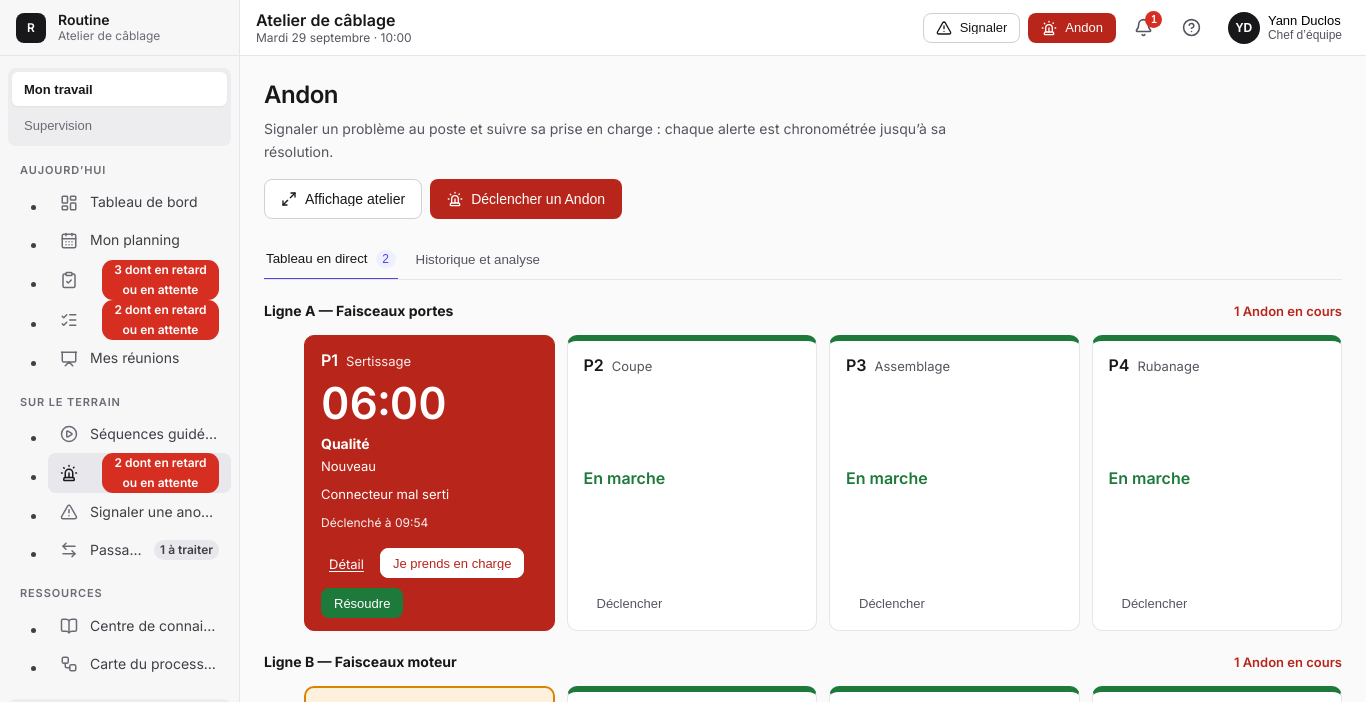
it: andon › prise en charge puis résolution avec cause obligatoire
Later steps or results of the test are not shown.
Click the button "Je prends en charge" at [452, 563], box [380,548,524,578]
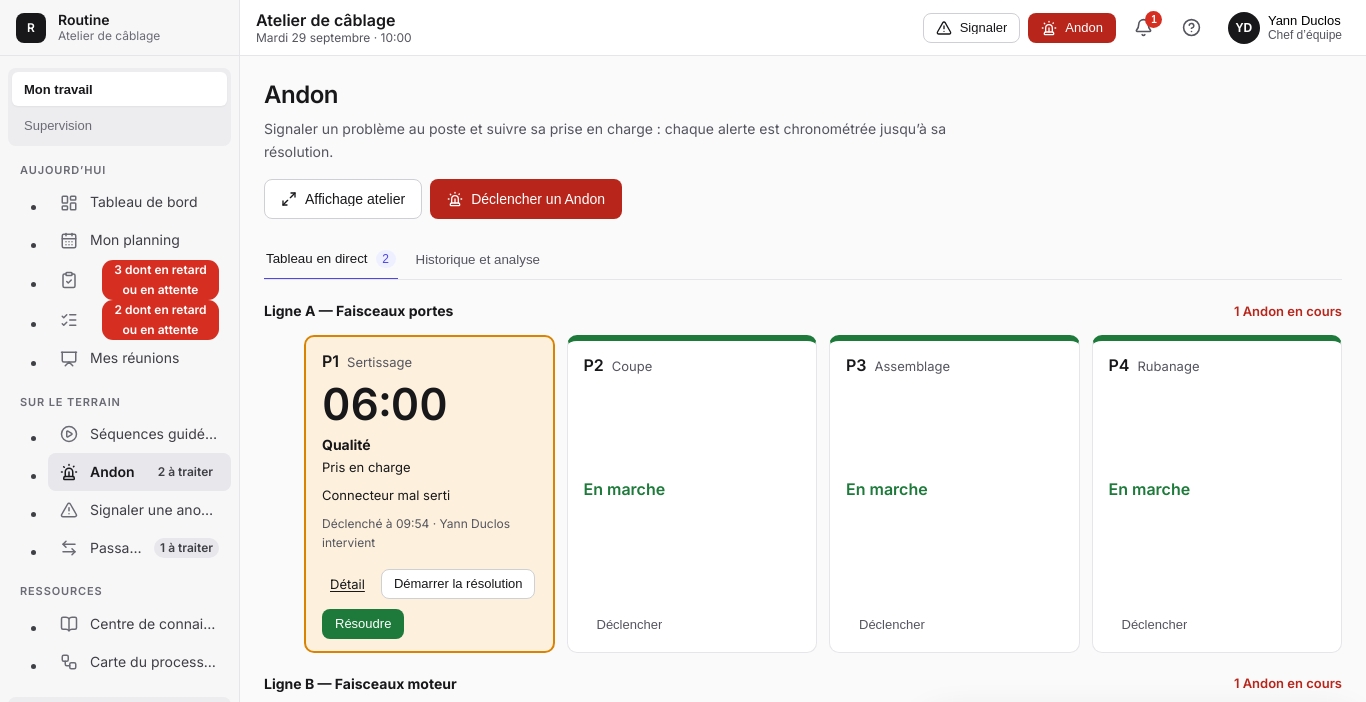
Click the button "Résoudre" at [363, 624], box [322,608,404,638]
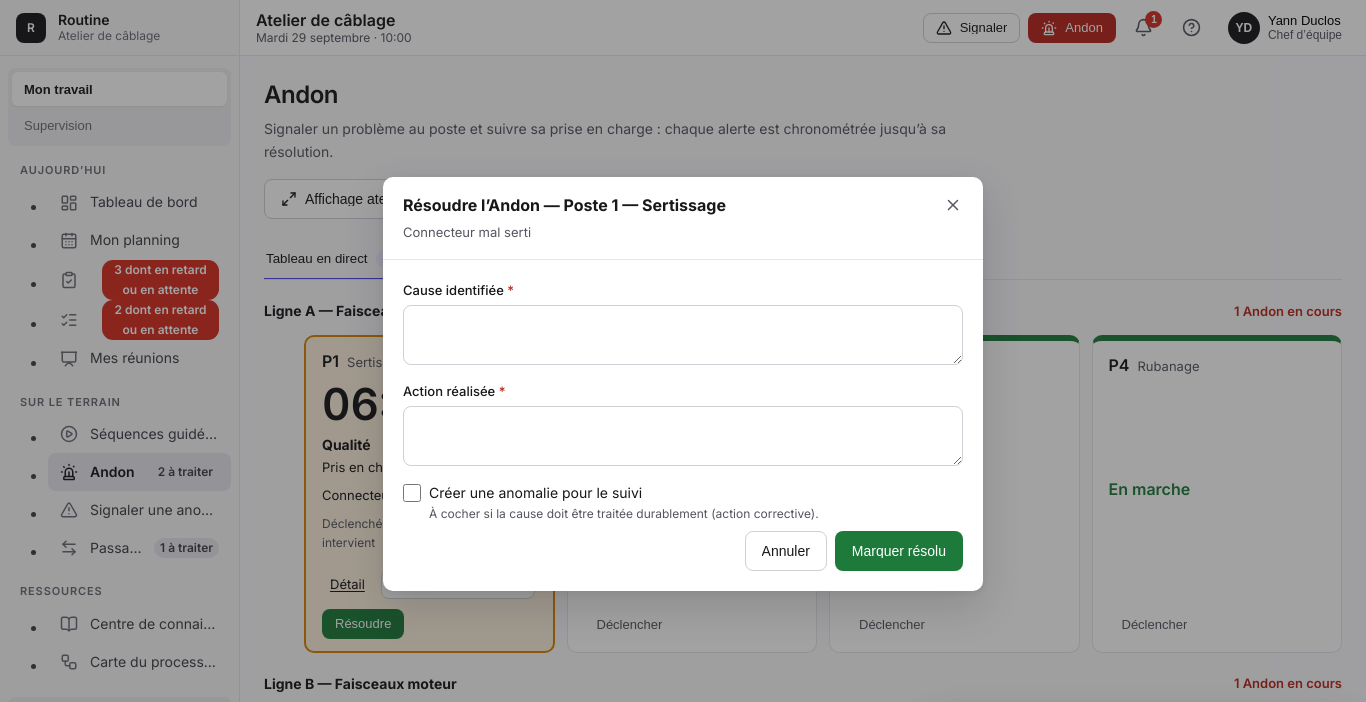
Click the button "Marquer résolu" at [899, 551], box [835,531,963,571]
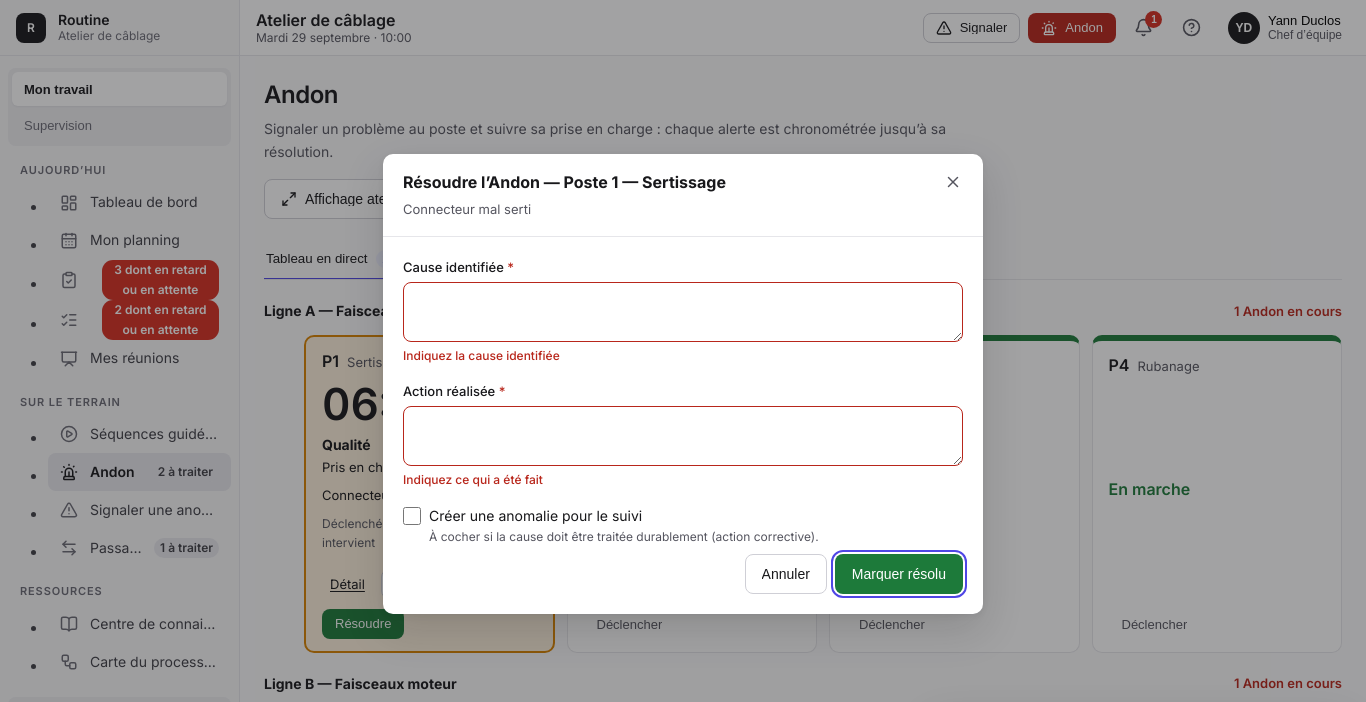
Now the text "Indiquez la cause identifiée" is shown, box [403,348,560,363]
